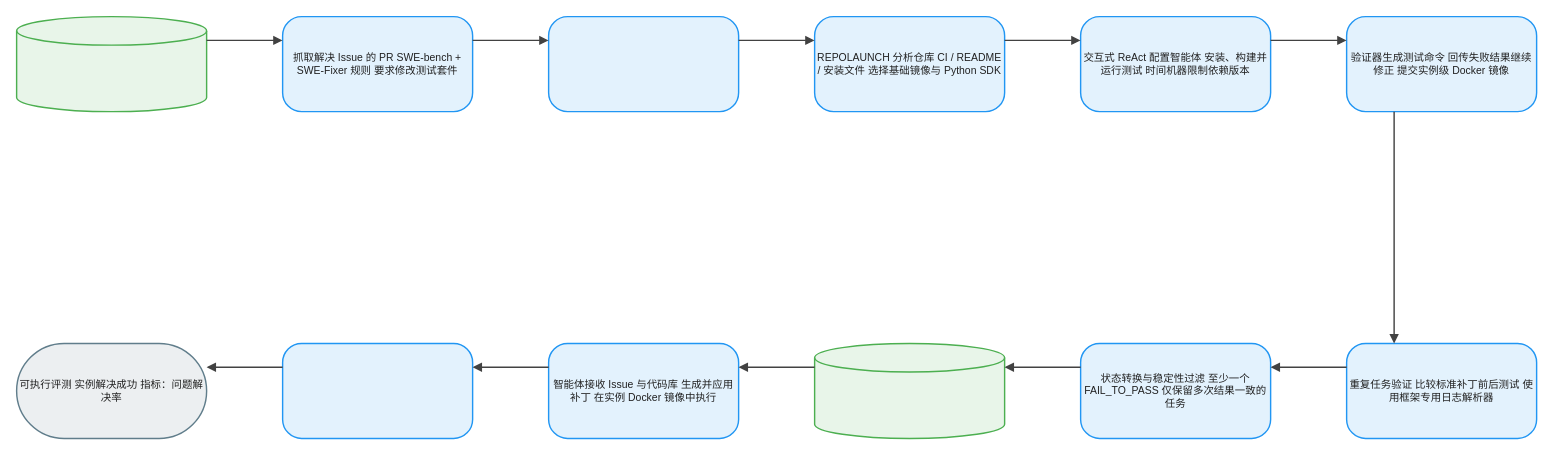
Some shapes in this 1554 by 456 pixel diagram are drawn without their labels. The centre of each missing label's shape, as x and y in pixels:
"GitHub Python 仓库漏斗 8,577 星标过滤 -> 3,316 活跃过滤 2,609 个有许可证仓库" goes at point (111, 63).
"SWE-bench-Live 首次发布 1,319 个任务 93 个开源 Python 仓库" goes at point (909, 390).
"时新性窗口 Issue 创建于 2024-01-01 至 2025-04-20" goes at point (643, 63).
"运行预期测试 修复全部 FAIL_TO_PASS 保持 PASS_TO_PASS 测试" goes at point (377, 390).
